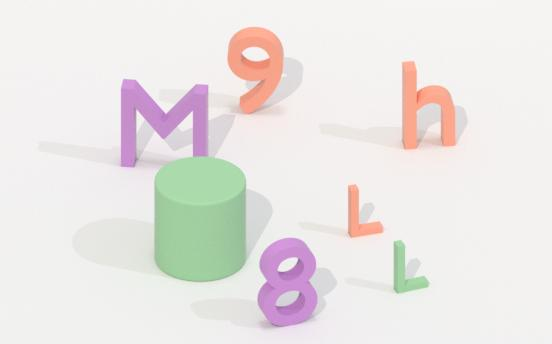8: (251, 235, 323, 329)
9: (225, 29, 289, 118)
M-hoa: (116, 76, 212, 168)
h: (396, 64, 464, 152)
l: (388, 237, 435, 295), (346, 180, 391, 238)
tru: (145, 156, 247, 281)
